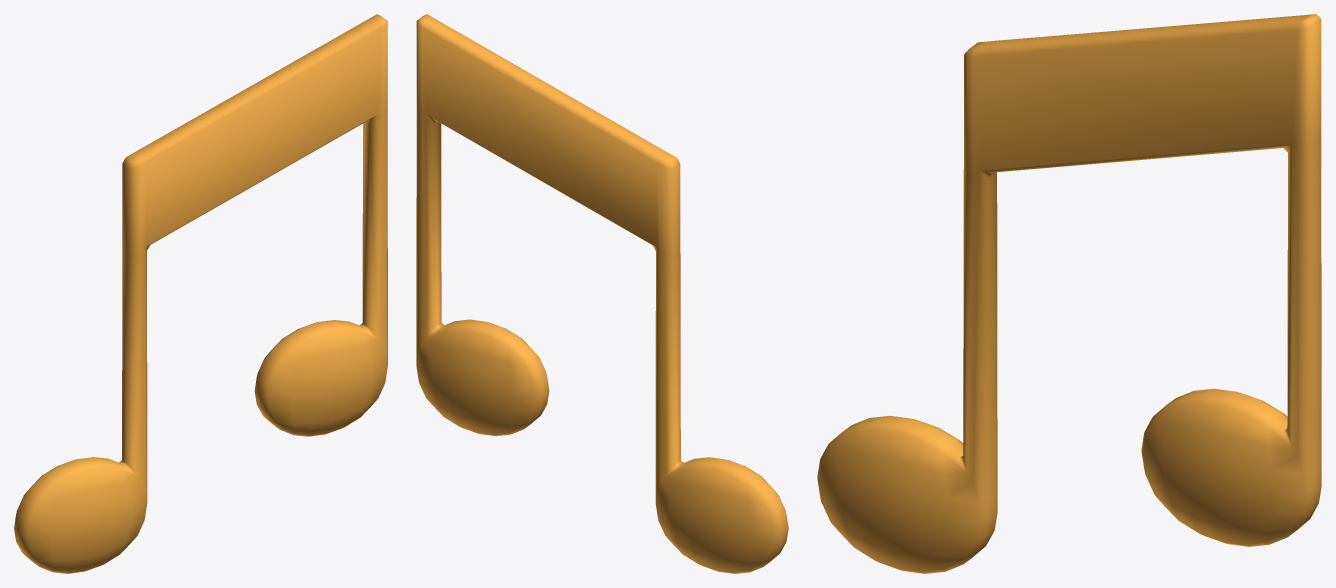
3 views of the same model, side by side, from view 1: azimuth 30°, elevation 25°; view 2: azimuth 150°, elevation 25°; view 3: azimuth 330°, elevation 25° (orthographic). The views are drawn at different scales.
Visible parts, largest first — view 1: MusicalNote2.005; view 2: MusicalNote2.005; view 3: MusicalNote2.005.
Boxes of the visible parts, x1=… form: MusicalNote2.005: x1=14, y1=14, x2=387, y2=573; MusicalNote2.005: x1=416, y1=14, x2=788, y2=573; MusicalNote2.005: x1=817, y1=14, x2=1321, y2=573.
Size of the model in its own units: 3.9 by 4.88 by 0.5225.
